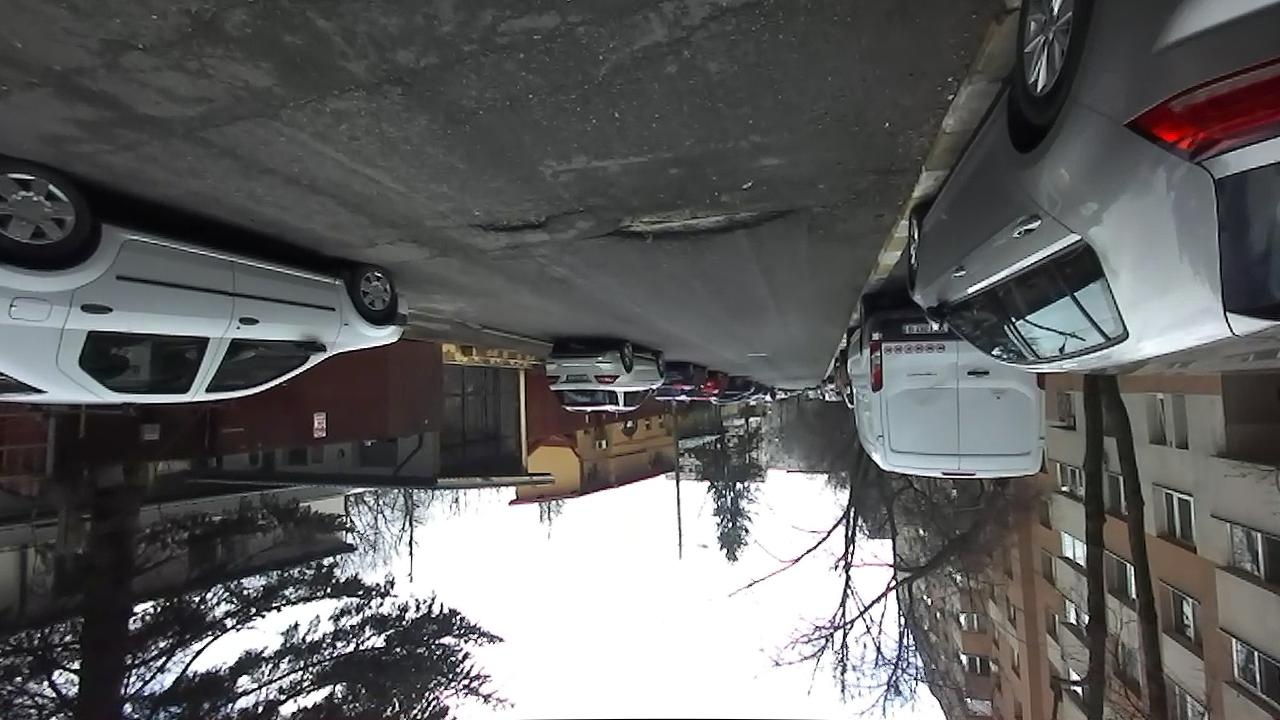pothole: (590, 198, 806, 248), (466, 204, 586, 238)
